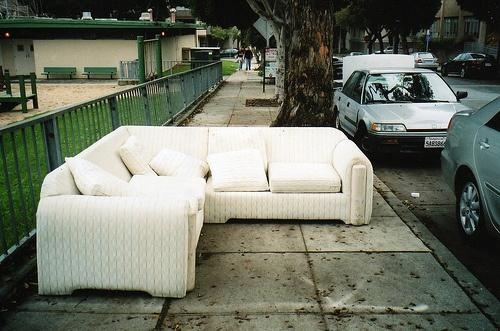car: (335, 55, 472, 159), (440, 95, 500, 247), (441, 53, 500, 81)
sofa: (37, 126, 374, 301)
